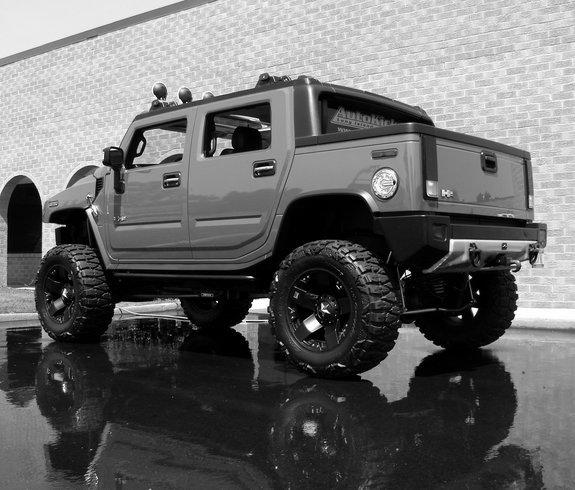car: (33, 73, 545, 377)
